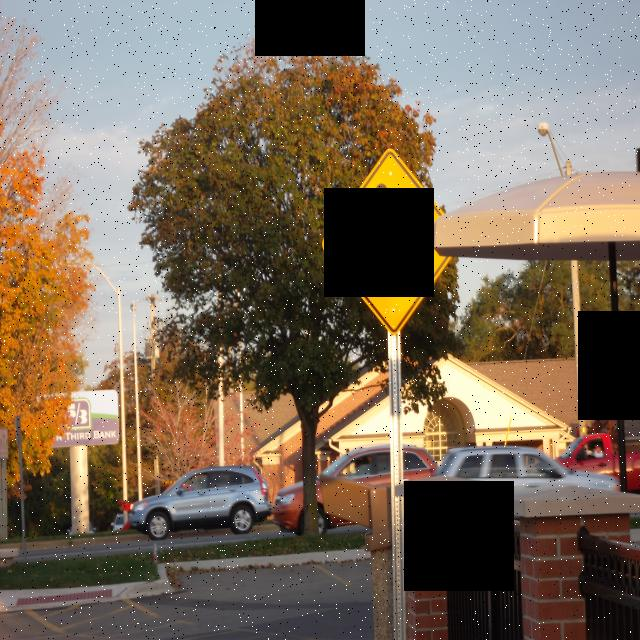warning: (324, 149, 454, 334)
